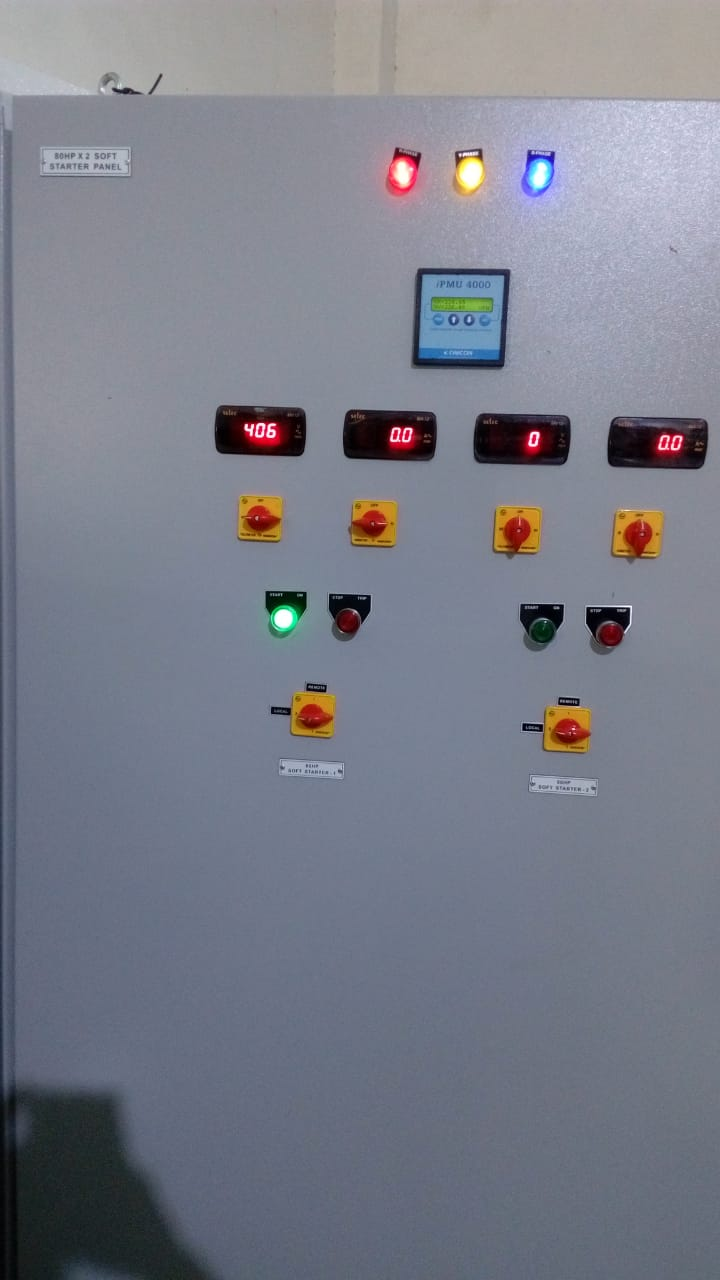Blue_Led_On: (517, 150, 567, 203)
Green_Led_Off: (520, 609, 564, 655)
Green_Led_On: (263, 596, 304, 643)
Red_Led_Off: (590, 613, 631, 659), (331, 605, 370, 642)
Red_Led_On: (378, 149, 428, 202)
Yellow_Led_On: (449, 148, 495, 199)
